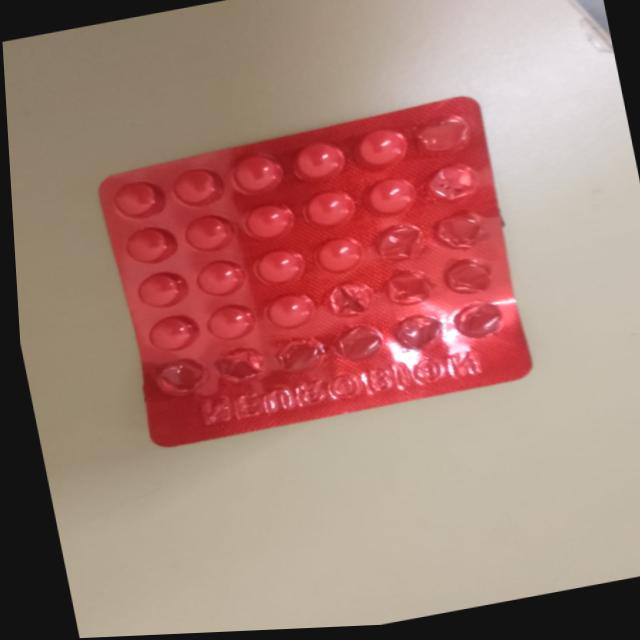medicine: (56, 76, 558, 468)
